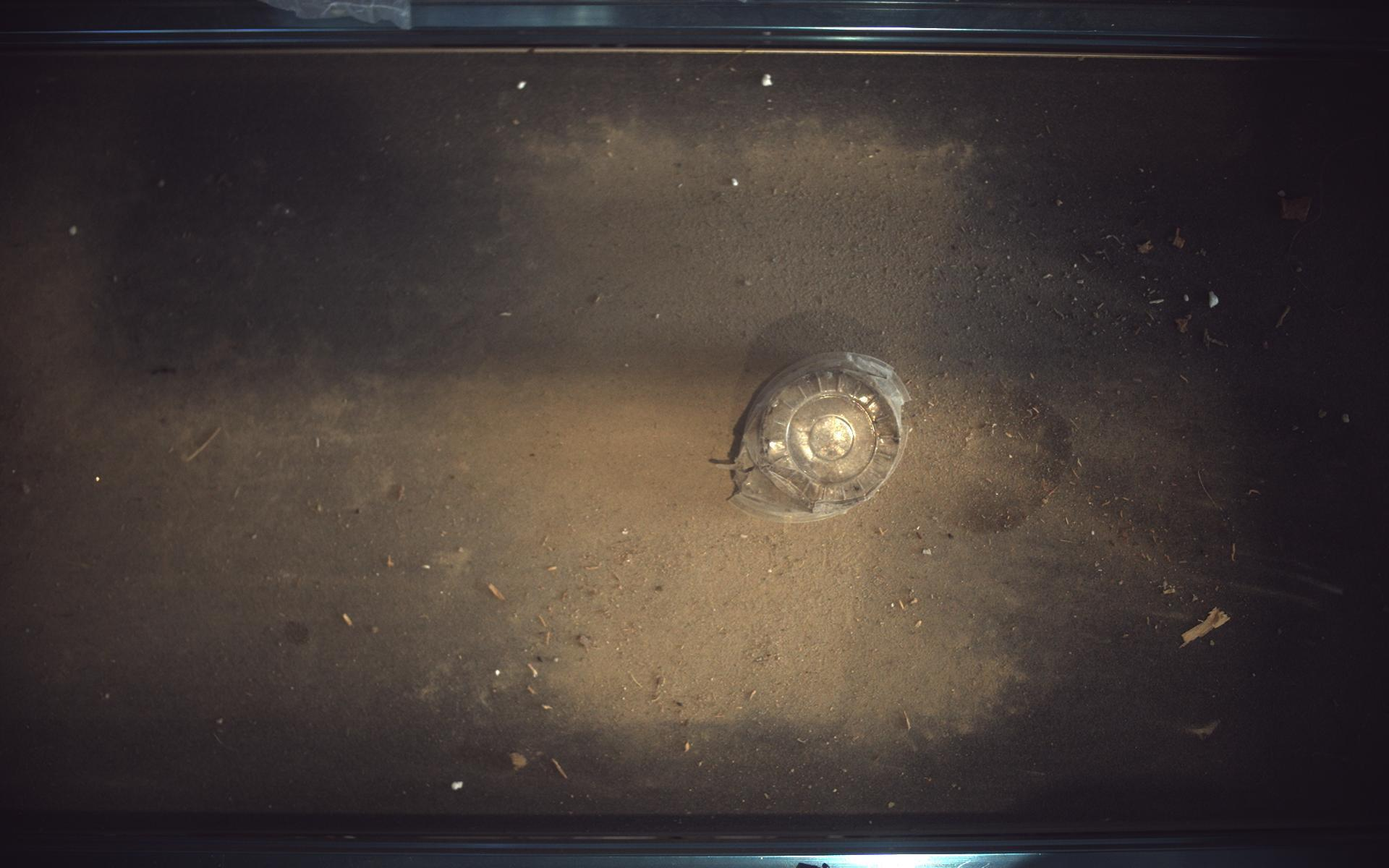general_w: (732, 352, 912, 523)
